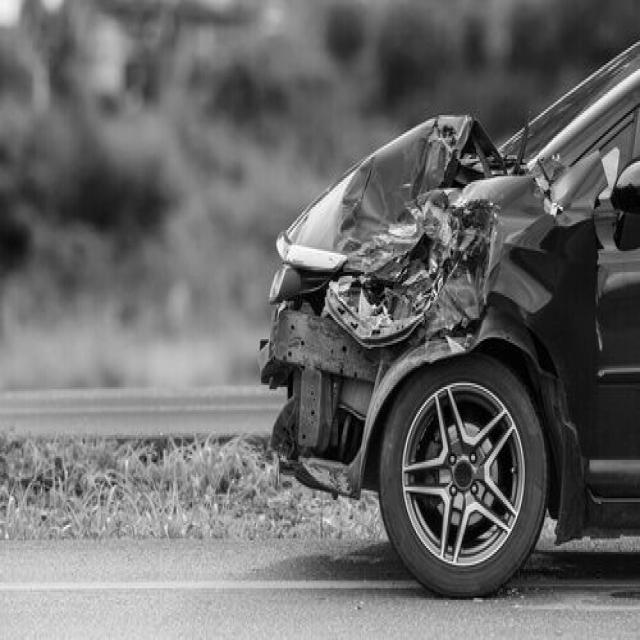crush: (258, 110, 607, 500)
